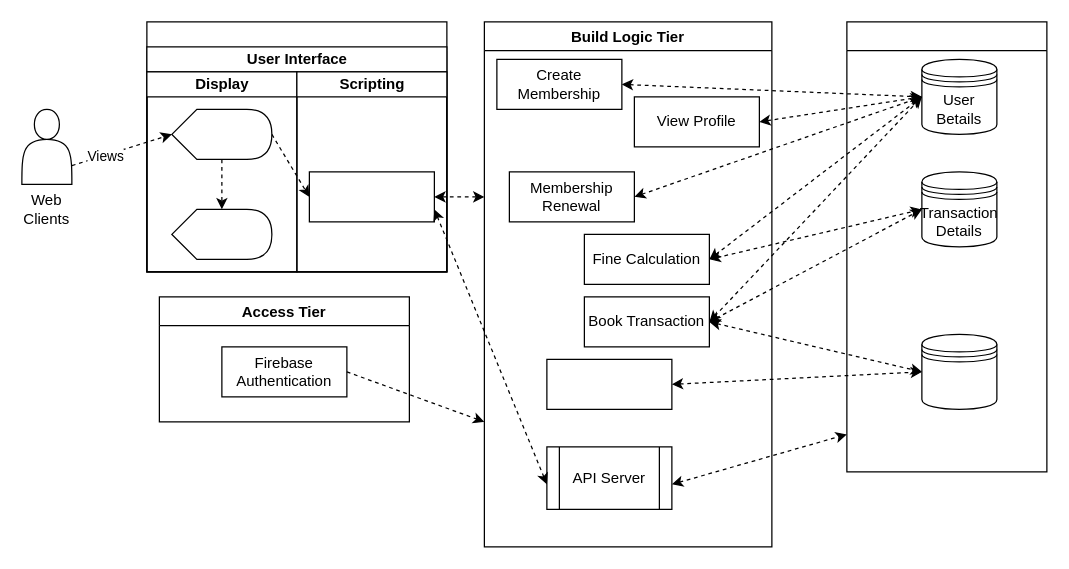
Image size: 1069x569. Some labels were removed from this diagram. The shapes that lost their labels are listed below. From the top down, each one's box as (x1, y1, x2, y2) in pixels, then its label:
(171, 108, 272, 159): HTML5
(146, 21, 447, 272): Presentation Tier
(308, 171, 434, 222): JavaScript
(171, 208, 272, 259): CSS3
(846, 21, 1047, 472): Data Tier:MySQL
(546, 358, 672, 409): Search Book
(921, 333, 997, 409): Book Details
